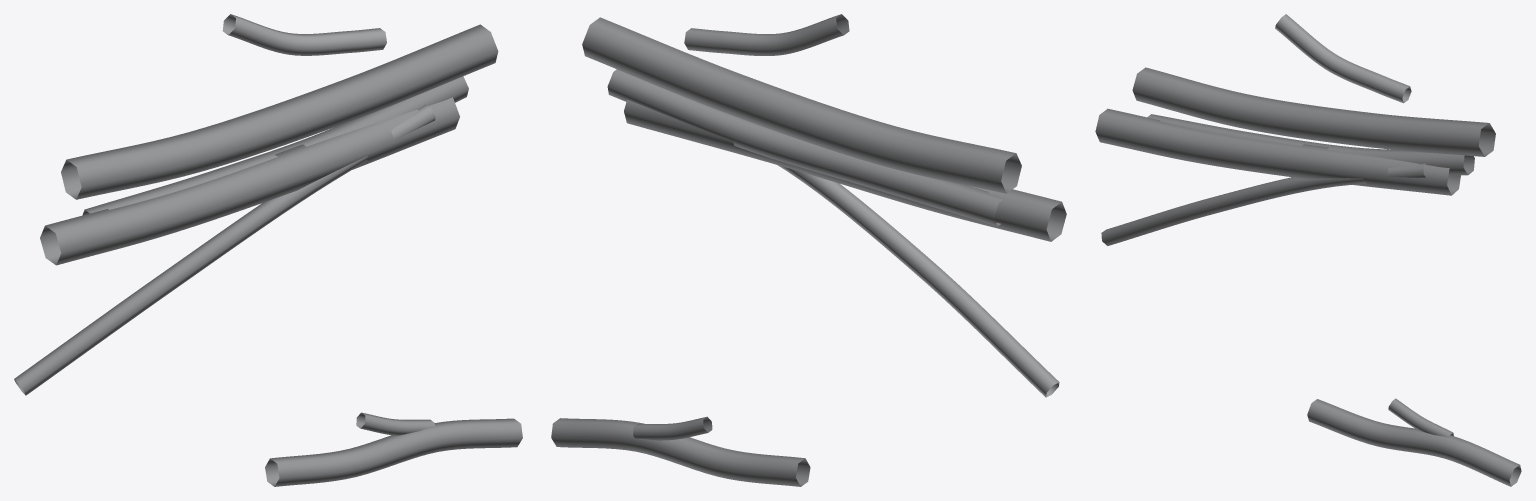
3 views of the same model, side by side, from view 1: azimuth 30°, elevation 25°; view 2: azimuth 150°, elevation 25°; view 3: azimuth 330°, elevation 25° (orthographic). The views are drawn at different scales.
Size of the model in its own units: 0.8339 by 0.7896 by 0.095.
